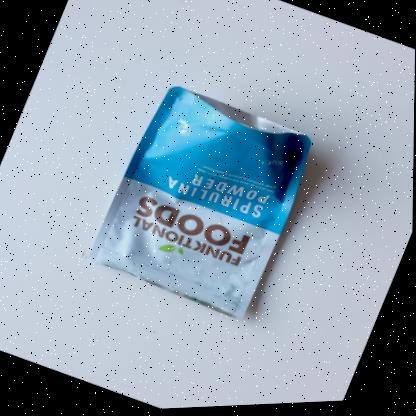Plastic: (87, 87, 310, 321)
